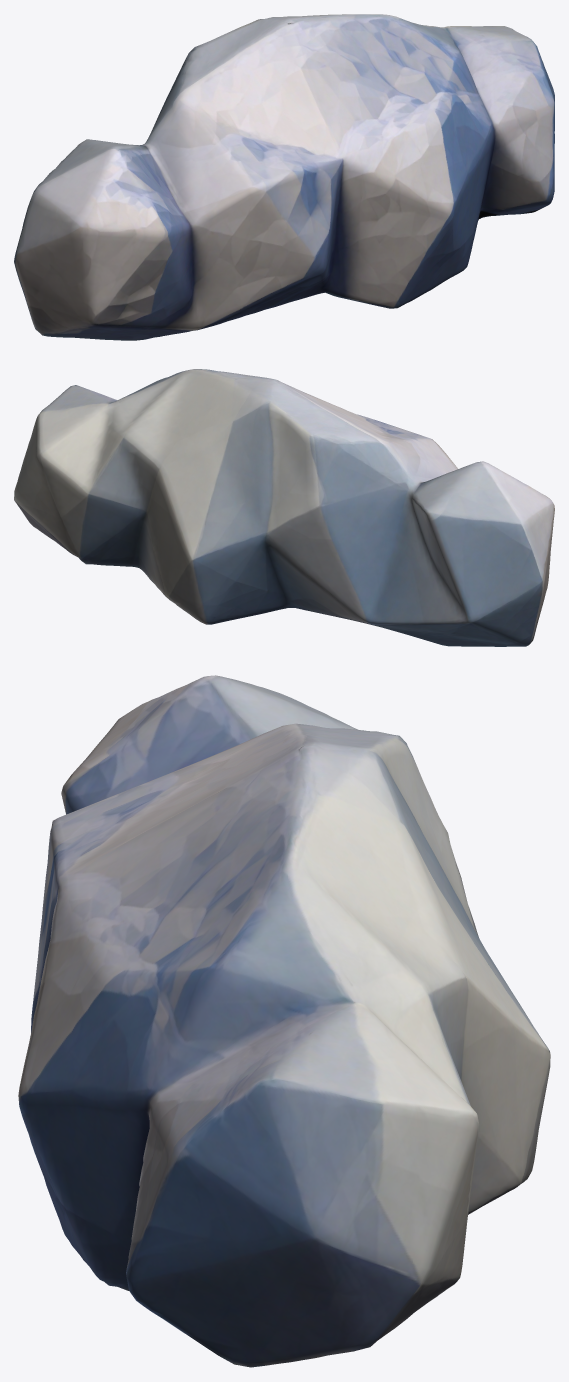
File: Cloud001.glb
The picture shows the model from 3 angles, top to bottom: view 1: azimuth 30°, elevation 25°; view 2: azimuth 150°, elevation 25°; view 3: azimuth 270°, elevation 25°; orthographic projection. The views are drawn at different scales.
Visible parts, largest first — view 1: Cloud001; view 2: Cloud001; view 3: Cloud001.
Part boxes in pixels (box(x1,y1,x2,y2)): Cloud001: box(14, 14, 554, 340); Cloud001: box(14, 369, 554, 646); Cloud001: box(18, 675, 550, 1367).
Bounding box in the file's own units: 10.77 × 5.09 × 4.96.
Materials: 1 (1 with a texture image).
